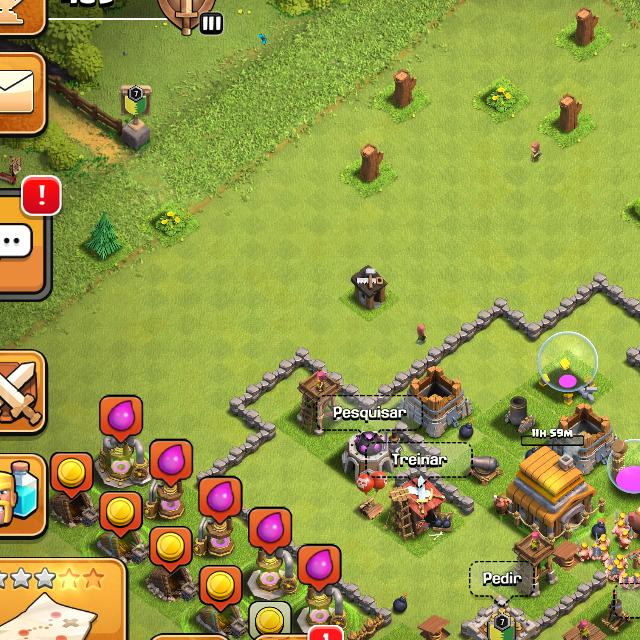FullCoin: (98, 491, 146, 538), (148, 525, 194, 574), (198, 564, 242, 611), (50, 452, 94, 497)
FullElixir: (99, 394, 143, 442), (149, 438, 194, 484), (198, 475, 243, 520), (248, 507, 292, 552), (298, 545, 342, 590)
coin: (249, 601, 293, 633)
